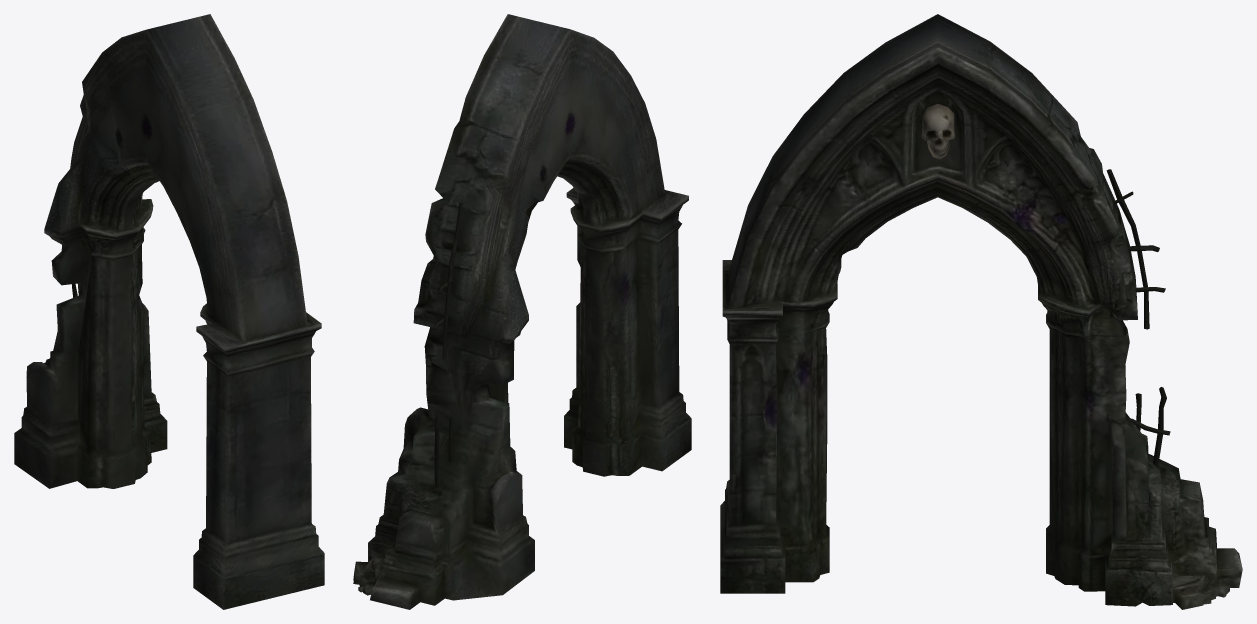
Rendered from arch.glb.
3 views of the same model, side by side, from view 1: azimuth 30°, elevation 25°; view 2: azimuth 150°, elevation 25°; view 3: azimuth 270°, elevation 25° (orthographic). The views are drawn at different scales.
Parts seen in each view (by area): view 1: tripo_node_acaf7619-4075-4661-97d9-6791a1318560; view 2: tripo_node_acaf7619-4075-4661-97d9-6791a1318560; view 3: tripo_node_acaf7619-4075-4661-97d9-6791a1318560.
Boxes of the visible parts, x1=… form: tripo_node_acaf7619-4075-4661-97d9-6791a1318560: x1=14, y1=14, x2=324, y2=609; tripo_node_acaf7619-4075-4661-97d9-6791a1318560: x1=353, y1=14, x2=691, y2=609; tripo_node_acaf7619-4075-4661-97d9-6791a1318560: x1=720, y1=14, x2=1242, y2=609.
Size of the model in its own units: 0.291 by 0.998 by 0.8769.
1 material, 1 textured.
